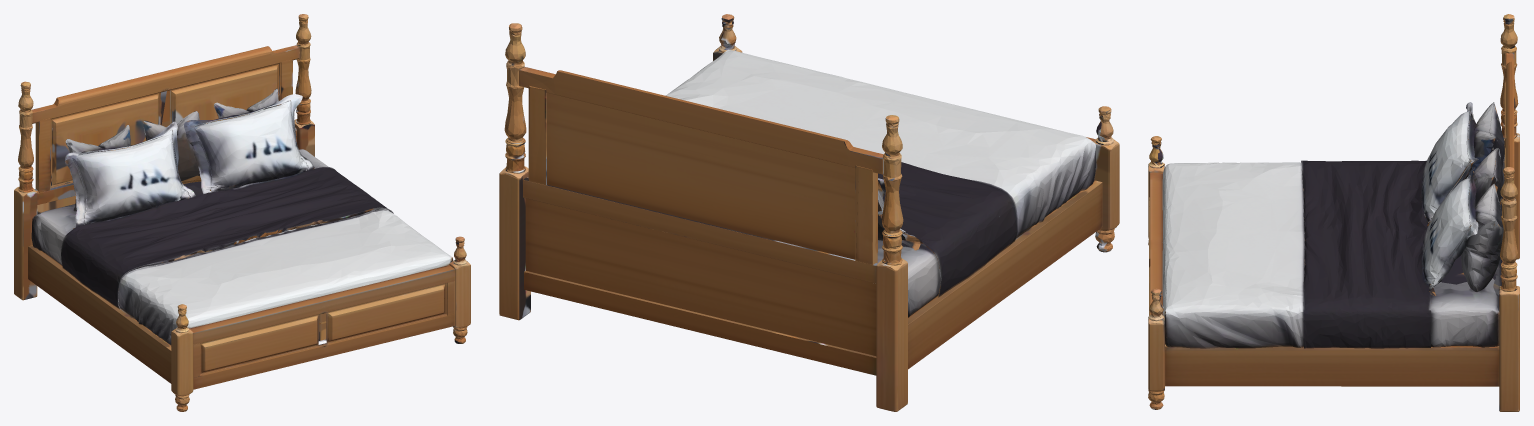
Rendered from edited_mesh.glb.
3 renders of one model, left to right at view 1: azimuth 30°, elevation 25°; view 2: azimuth 150°, elevation 25°; view 3: azimuth 270°, elevation 25°, orthographic. The views are drawn at different scales.
Visible parts, largest first — view 1: solid_001_wire; view 2: solid_001_wire; view 3: solid_001_wire.
Part boxes in pixels (x1,y1,x2,y2): solid_001_wire: [14, 14, 470, 411]; solid_001_wire: [499, 14, 1119, 411]; solid_001_wire: [1148, 14, 1519, 411].
Size of the model in its own units: 1.68 by 1.16 by 1.63.
Materials: 1 (1 with a texture image).
